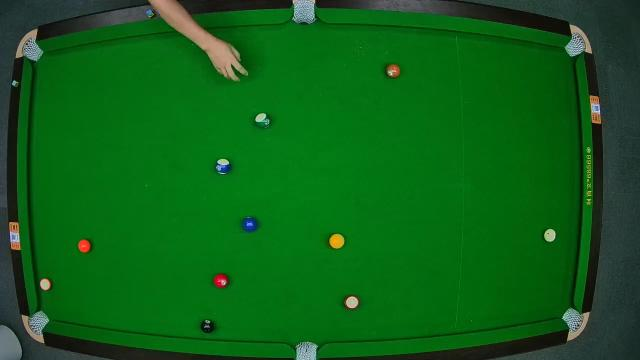bag1: (22, 40, 42, 62)
bag2: (291, 1, 317, 23)
bag3: (564, 34, 586, 58)
bag4: (27, 309, 49, 335)
bag5: (293, 343, 321, 359)
bag6: (562, 308, 584, 332)
ball0: (542, 228, 558, 244)
ball1: (328, 231, 346, 250)
ball10: (216, 159, 232, 174)
ball11: (345, 294, 359, 310)
ball12: (39, 278, 53, 290)
ball14: (254, 112, 272, 128)
ball2: (242, 216, 258, 232)
ball3: (213, 274, 229, 288)
ball5: (77, 238, 91, 254)
ball7: (386, 64, 402, 80)
ball8: (200, 317, 216, 335)
